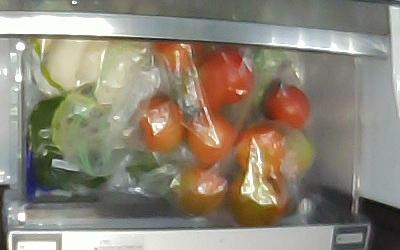tomato_vinyl: (195, 44, 255, 106), (131, 94, 186, 153), (229, 174, 291, 226), (187, 109, 238, 167), (234, 123, 285, 178), (172, 166, 227, 213), (261, 81, 311, 128), (149, 41, 206, 73)
